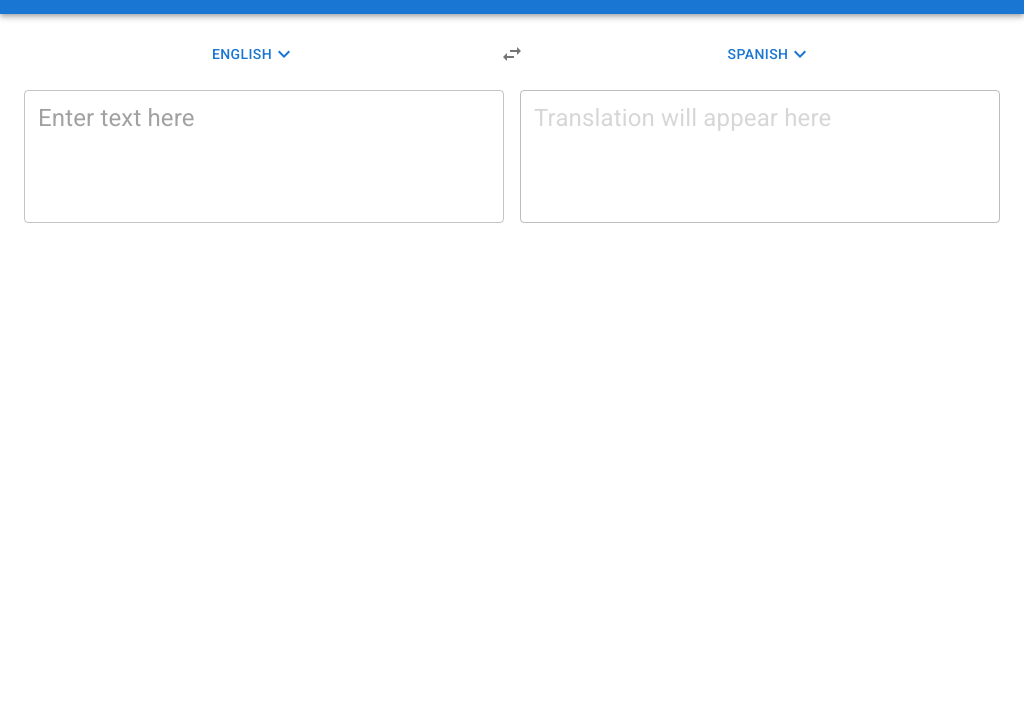
Test: App › selects French as target and translates English to French
The width and height of the screenshot is (1024, 718).
Click the button "Spanish" at [770, 54], box [540,36,1000,72]
(page scrolled)
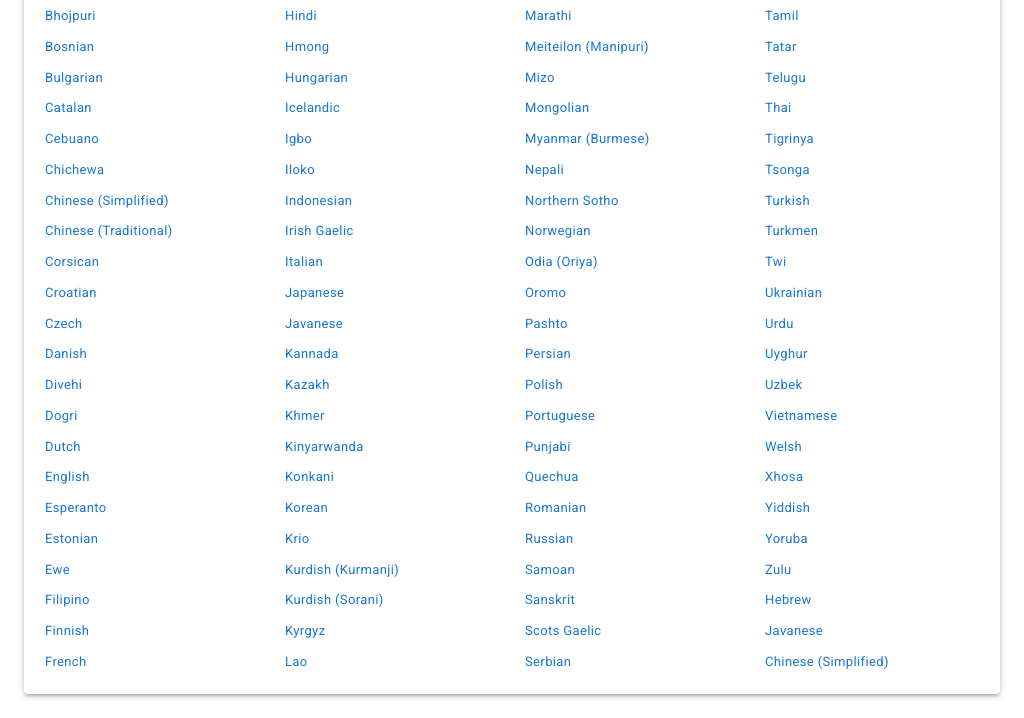
Click the button "French" at [152, 662], box [40,647,264,678]
(page scrolled)
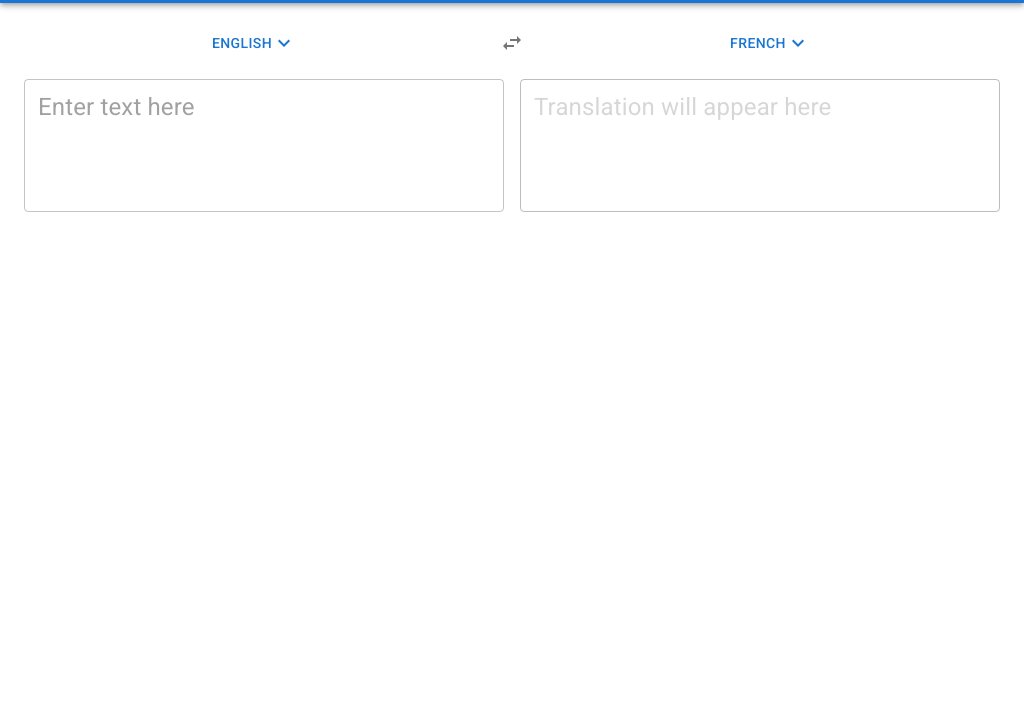
Type "hello world" into the text box with placeholder "Enter text here" at [264, 146], box [38,96,490,196]
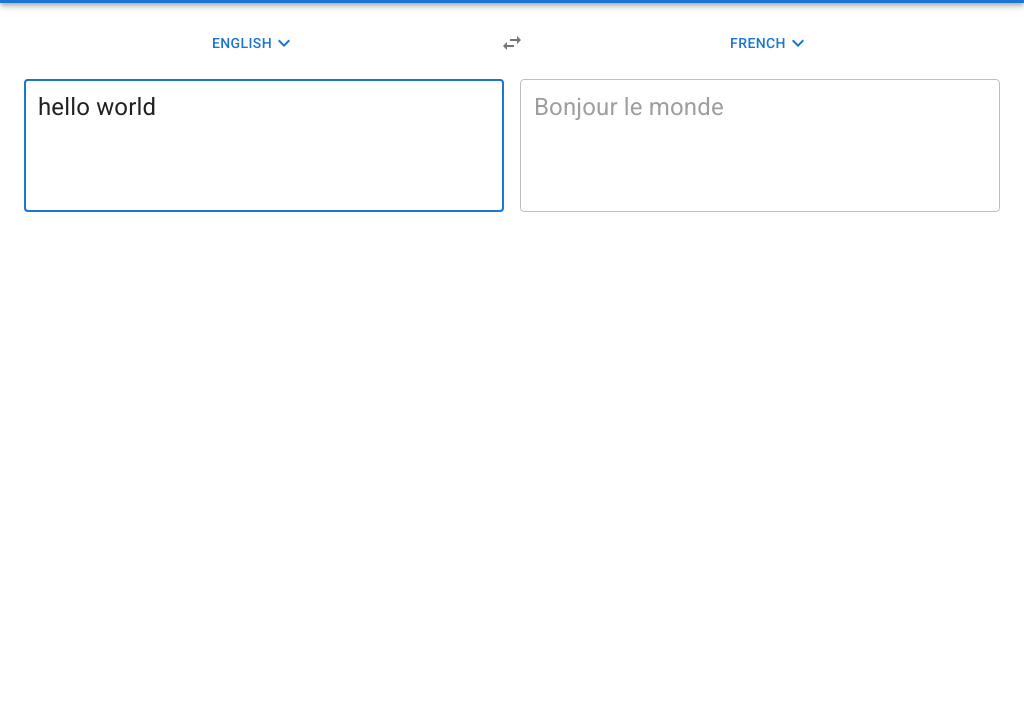
Now the 2nd text box showing "bonjour le monde" is shown, box [534,96,986,196]
